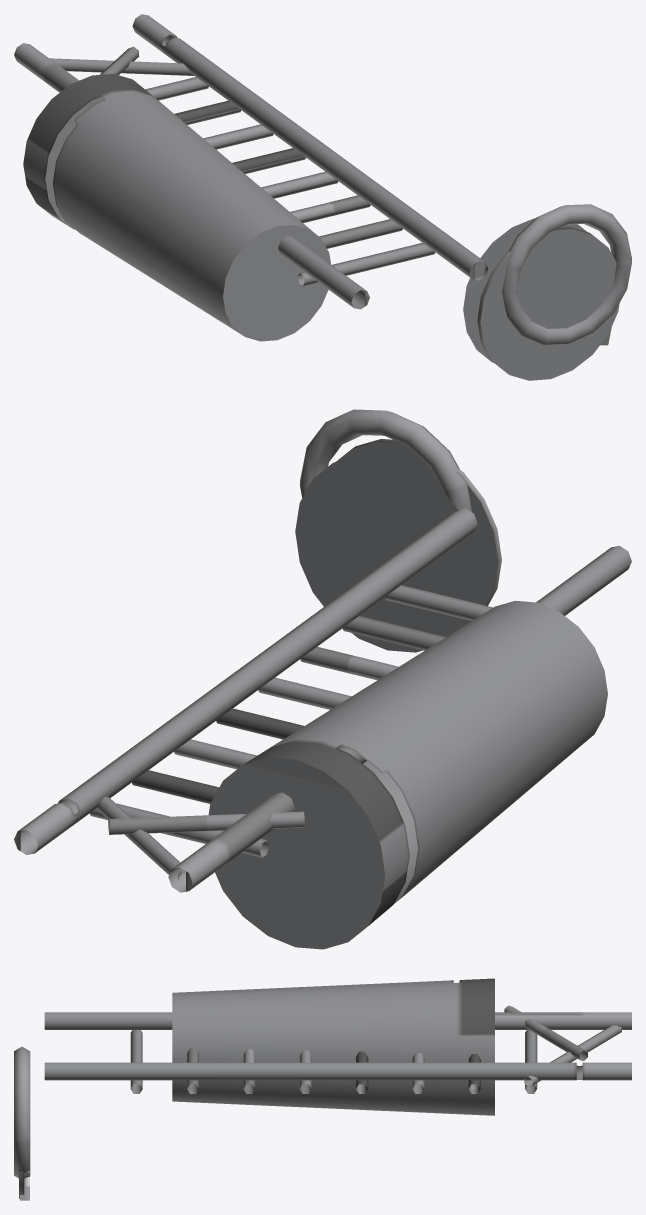
The picture shows the model from 3 angles, top to bottom: view 1: azimuth 30°, elevation 25°; view 2: azimuth 150°, elevation 25°; view 3: azimuth 270°, elevation 25°; orthographic projection. The views are drawn at different scales.
Bounding box in the file's own units: 1.27 × 0.6075 × 2.31.
